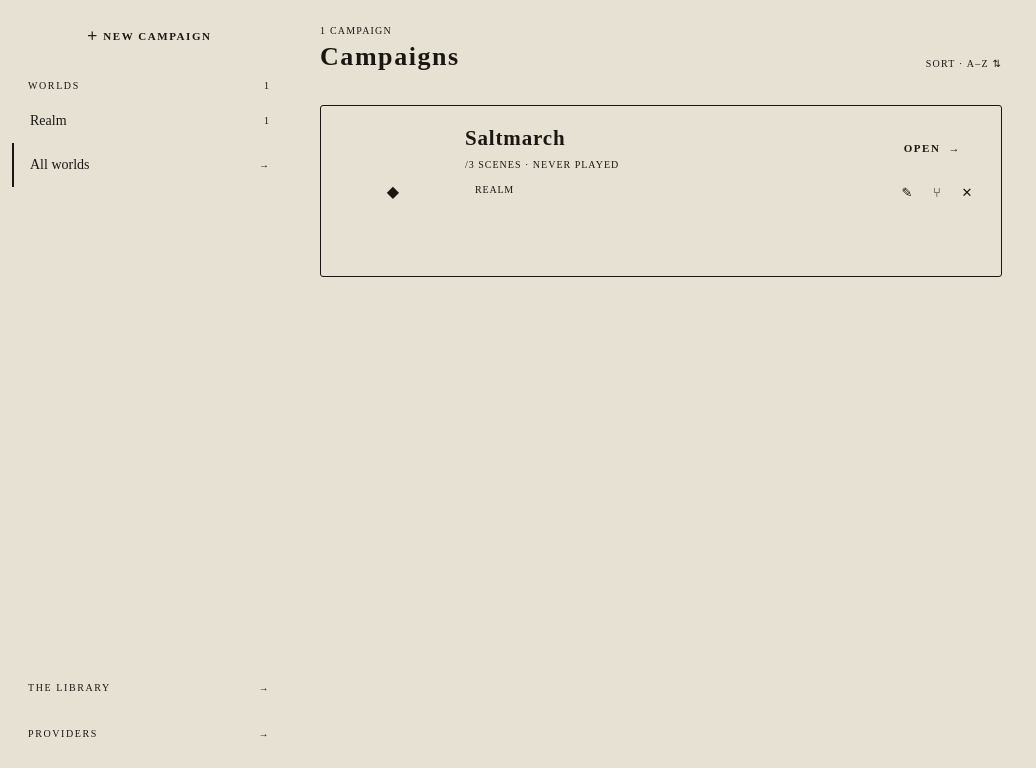
a fork the server refuses is reported rather than silently doing nothing
Check: the link "Saltmarch" is shown, box left=465, top=126, right=566, bottom=150
Click the button named "Fork Saltmarch". click: (937, 192)
box: left=923, top=178, right=951, bottom=206
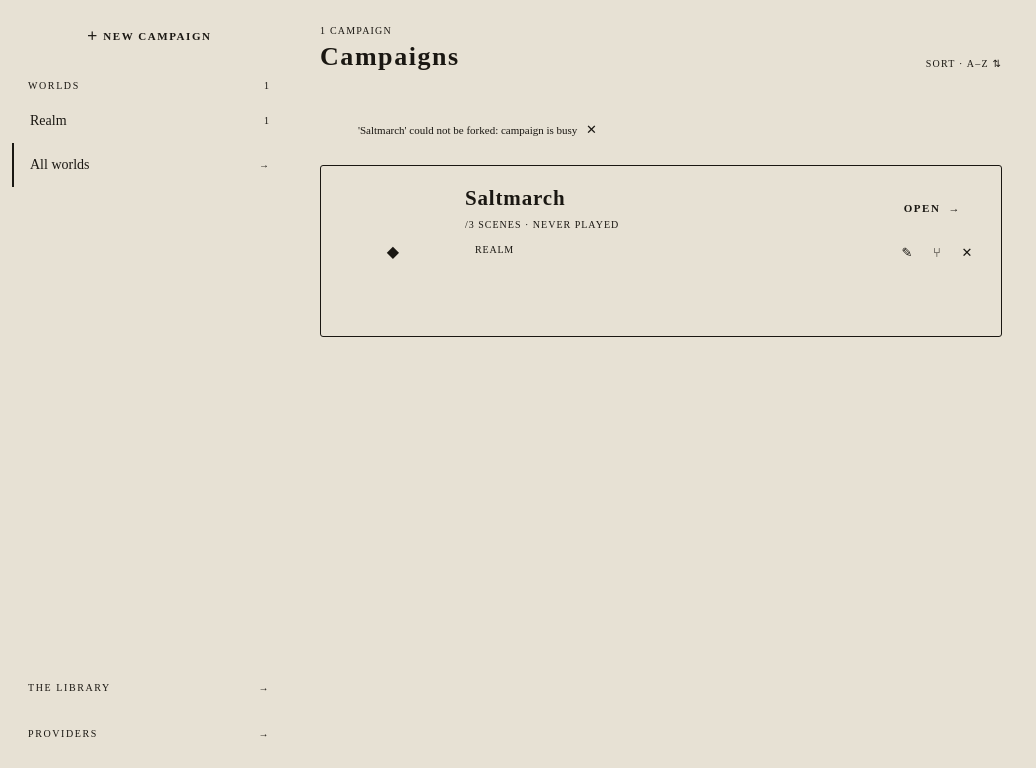
Check: the text "'Saltmarch' could not be forked: campaign is busy ✕" is shown, box left=358, top=115, right=605, bottom=143
